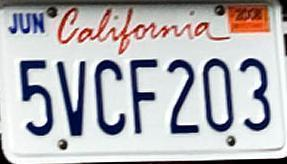placa de veiculo: (3, 0, 286, 162)
